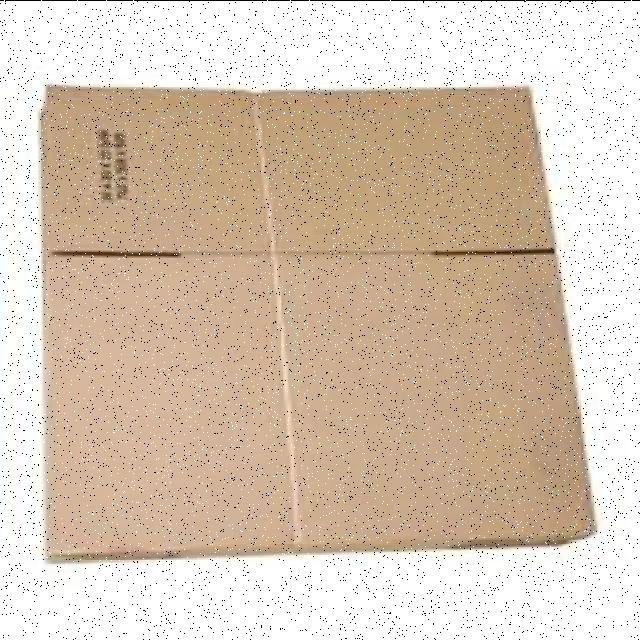normal: (276, 249, 598, 557)
